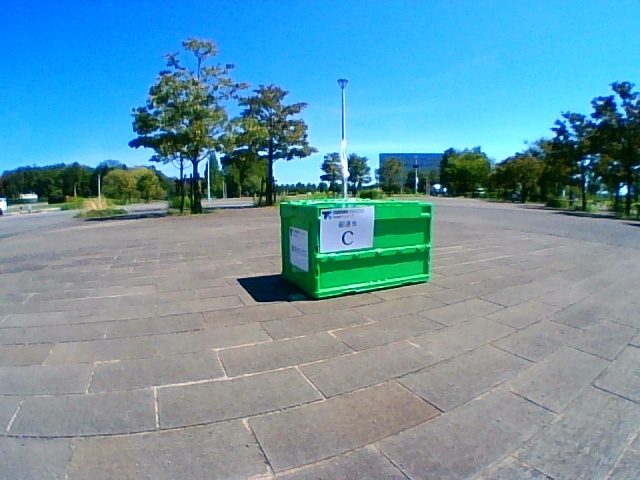green_box: (280, 199, 432, 297)
tag_c: (323, 211, 371, 248)
